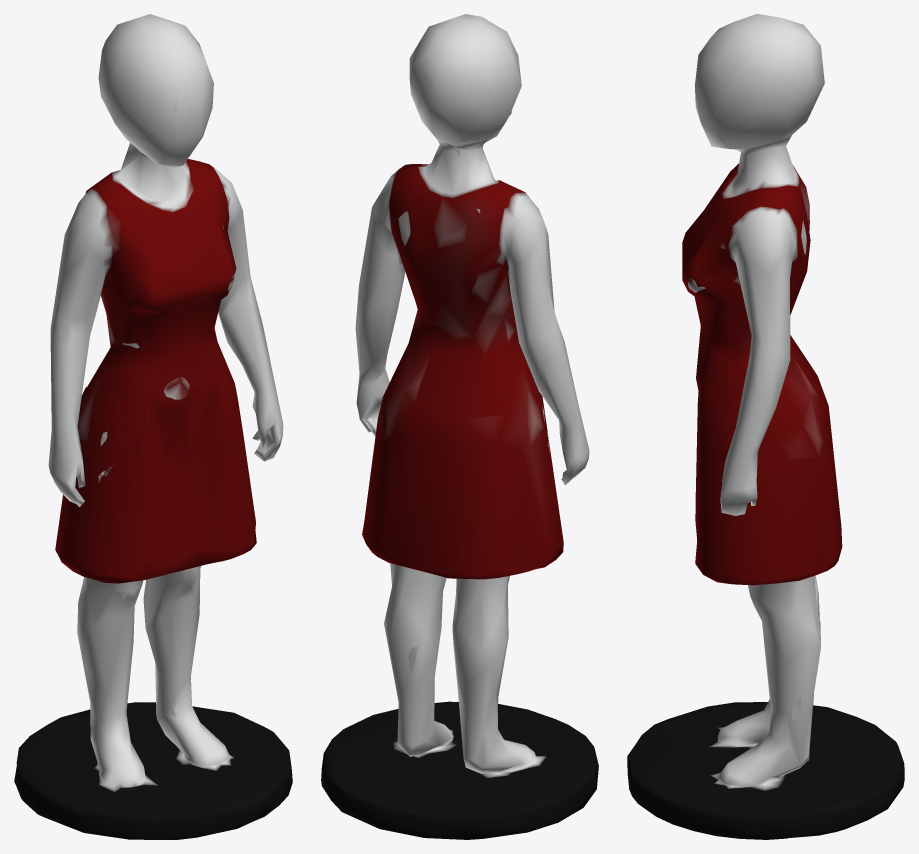
Rendered from gen3d-mannequin-lod0.glb.
The picture shows the model from 3 angles, left to right: view 1: azimuth 30°, elevation 25°; view 2: azimuth 150°, elevation 25°; view 3: azimuth 270°, elevation 25°; orthographic projection.
Visible parts, largest first — view 1: part_0; view 2: part_0; view 3: part_0.
Boxes of the visible parts, x1,y1,x2,y2 form: part_0: (14, 14, 292, 839); part_0: (321, 14, 598, 839); part_0: (627, 14, 904, 839).
Bounding box in the file's own units: 0.3297 × 0.9986 × 0.3295.
